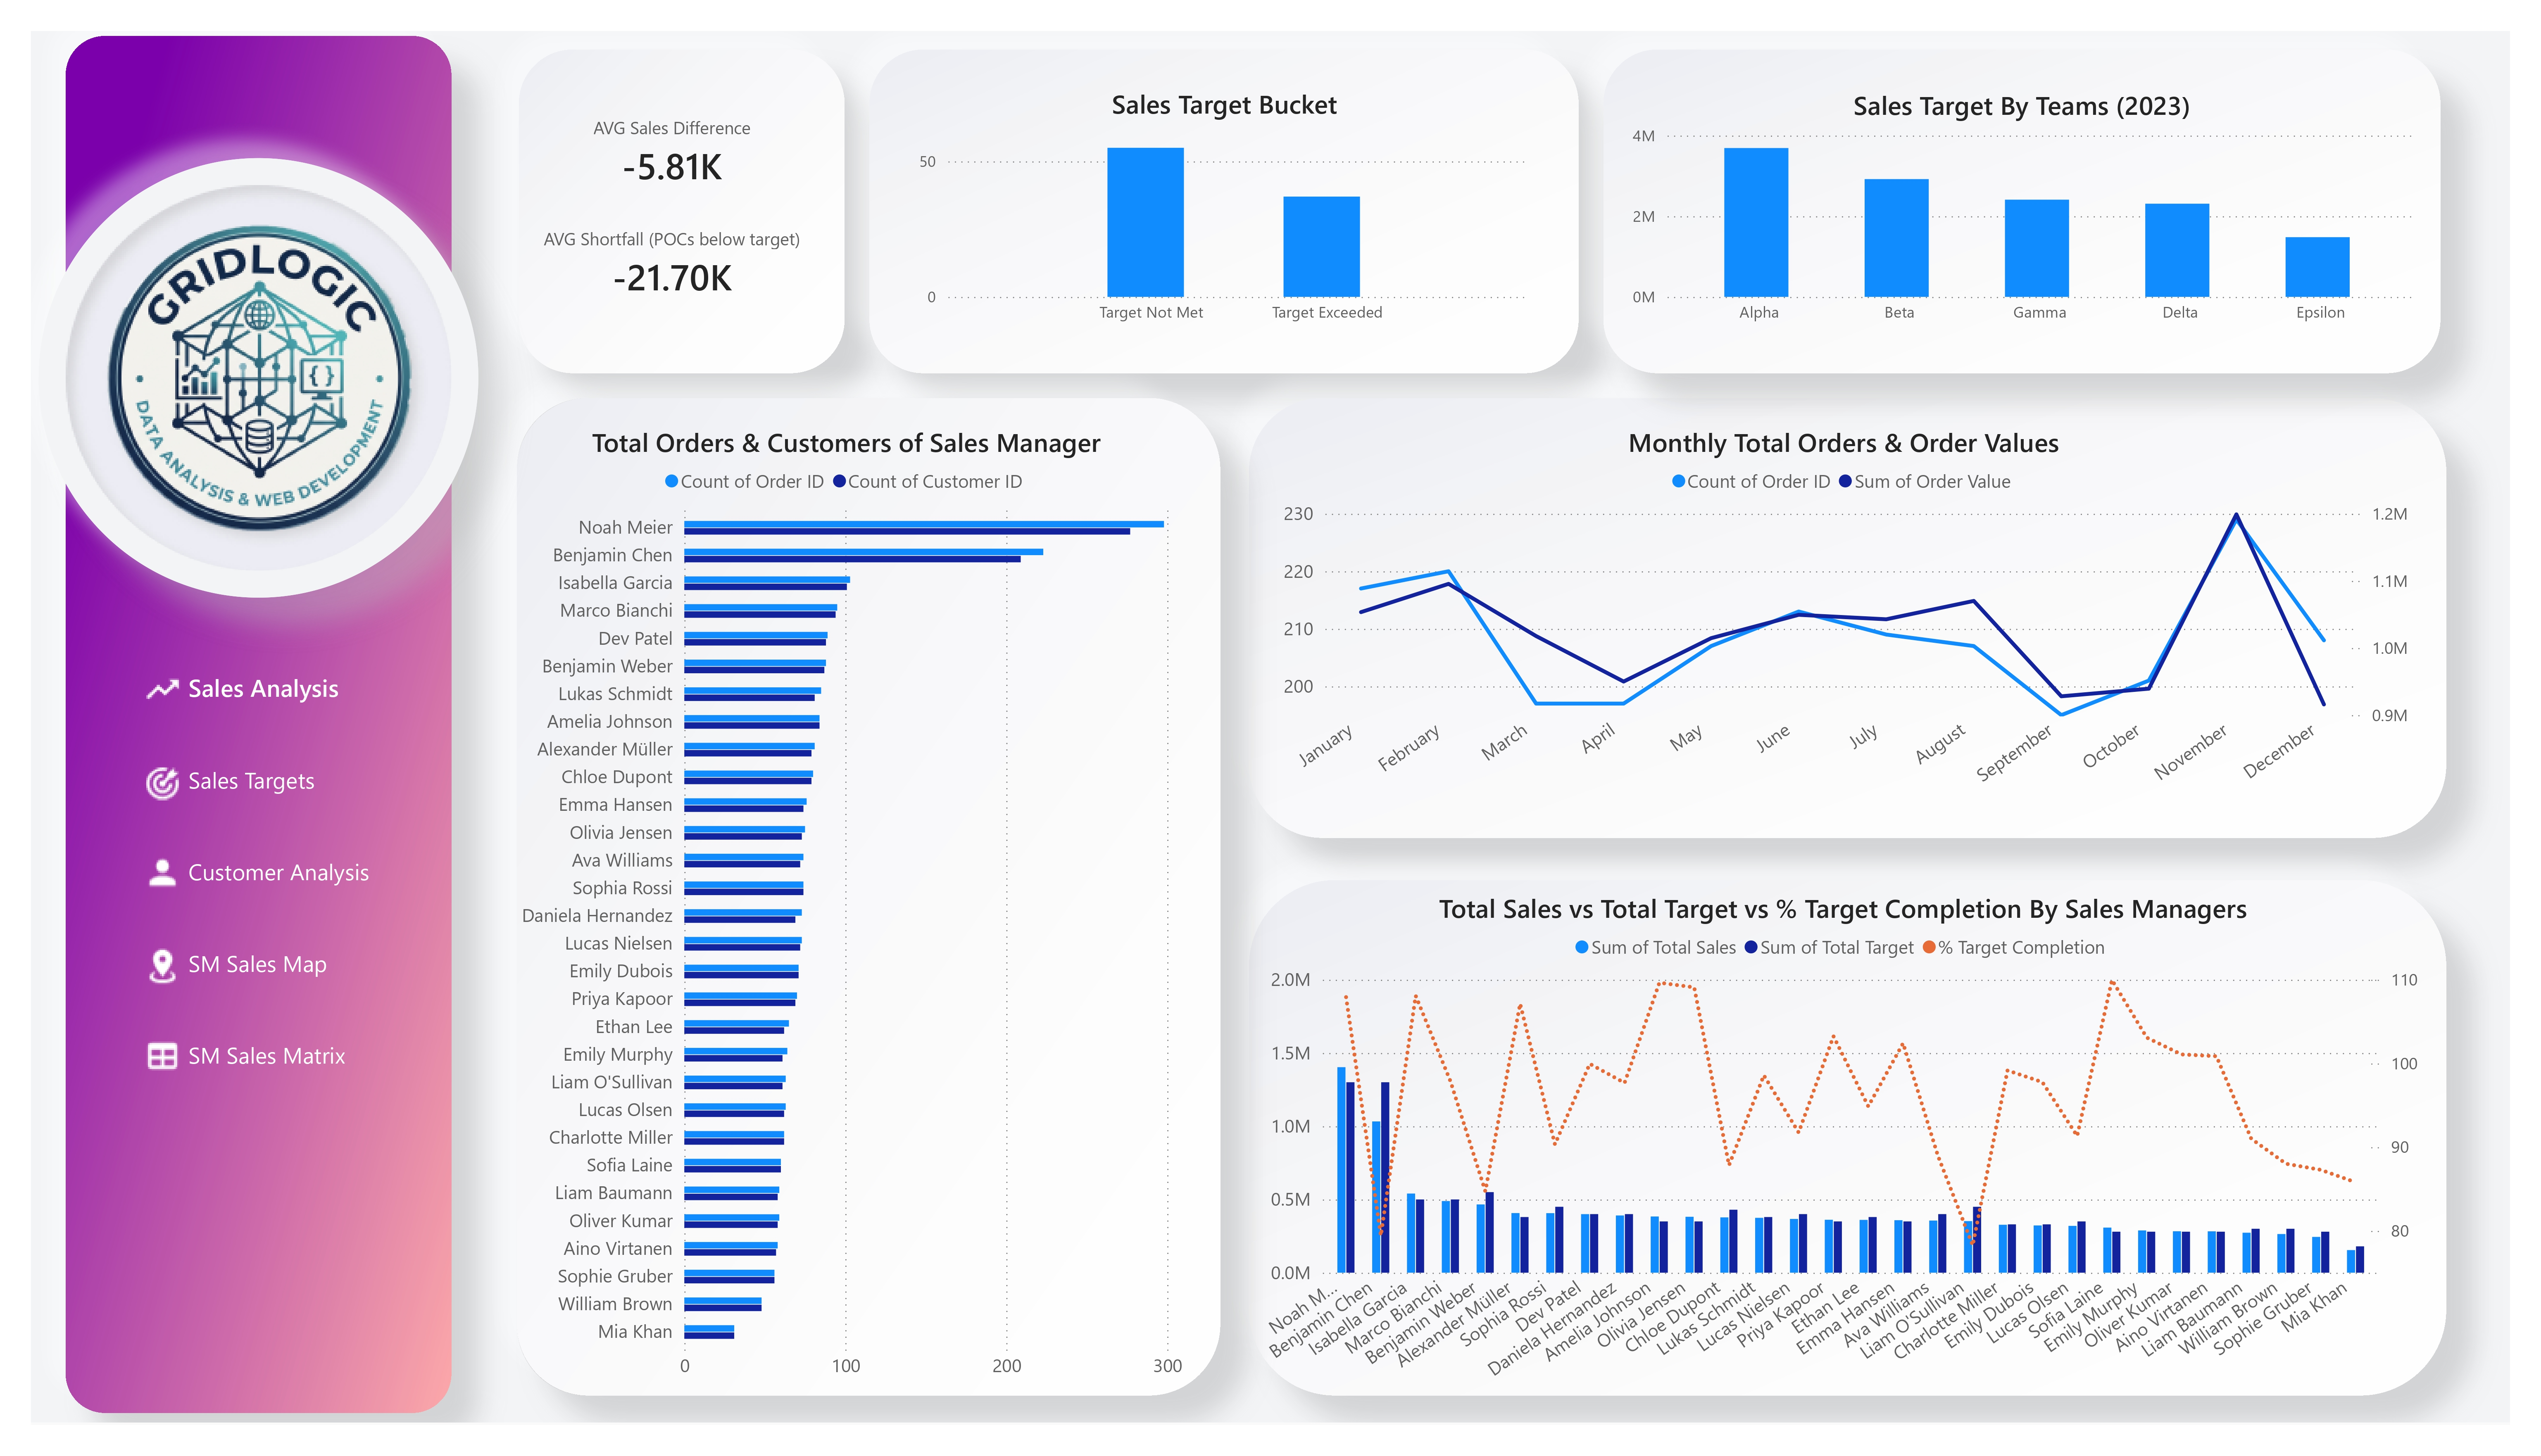

What the dashboard file says about the page in this screenshot:
{"tool":"powerbi","page":{"name":"Sales Analysis","canvas":[1920,1080],"ordinal":0},"visuals":[{"type":"clusteredColumnChart","title":"Sales Target Bucket","fields":{"Category":["Sales Targets.Target Bucket"],"Y":["CountNonNull(Sales Targets.Sales POC)"]},"box":[672,28,505,219],"z":0},{"type":"clusteredColumnChart","title":"Sales Target By Teams (2023)","fields":{"Category":["Sales Targets.Sales Team"],"Y":["Sum(Sales Targets.2023 Sales Target)"]},"box":[1224.3,28.6,635.7,218.6],"z":1000},{"type":"actionButton","title":"TableIconButton","box":[82.9,775.3,37.6,37.6],"z":1500,"group":"g1"},{"type":"lineClusteredColumnComboChart","title":"Total Sales vs Total Target vs % Target Completion By Sales Managers","fields":{"Category":["Sales Manager Target Table.Sales Manager Name"],"Y":["Sum(Sales Manager Target Table.Total Sales)","Sum(Sales Manager Target Table.Total Target)"],"Y2":["Sum(Sales Manager Target Table.% Target Completion)"]},"box":[940,651.4,927.1,428.6],"z":2000},{"type":"cardVisual","fields":{"Data":["Avg(Sales Targets.Sales Difference)"]},"box":[382.2,137.1,229.1,86.1],"z":3000},{"type":"clusteredBarChart","title":"Total Orders & Customers of Sales Manager","fields":{"Category":["Orders.Sales Manager"],"Y":["CountNonNull(Orders.Order ID)","Count(Orders.Customer ID)"]},"box":[355,290,553.3,775],"z":4000},{"type":"actionButton","title":"MapIconButton","box":[82.9,704.8,37.6,37.6],"z":4000,"group":"g1"},{"type":"actionButton","title":"CustomerIconButton","box":[82.9,632.4,37.6,37.6],"z":4312,"group":"g1"},{"type":"actionButton","title":"TargetIconButton","box":[82.9,563.4,37.6,37.6],"z":4625,"group":"g1"},{"type":"lineChart","title":"Monthly Total Orders & Order Values","fields":{"Category":["Orders.Order Datetime.Variation.Date Hierarchy.Month"],"Y":["CountNonNull(Orders.Order ID)"],"Y2":["Sum(Orders.Order Value)"]},"box":[948.3,290,911.7,326.7],"z":5000},{"type":"actionButton","title":"SalesIconButton","box":[82.9,490.5,37.6,37.6],"z":5250,"group":"g1"},{"type":"pageNavigator","title":"PageNavigator","box":[110,473.8,182.5,355],"z":5500,"group":"g1"},{"type":"group","id":"g1","title":"NavMenu","box":[82.9,473.8,209.6,355],"z":6000},{"type":"cardVisual","fields":{"Data":["Avg(Sales Targets.Sales Difference)"]},"box":[382.2,49.6,229.1,87.5],"z":7000}]}

Visuals, with their boxes on the page's 1920x1080 design canvas (x1, y1, x2, y2). These are canvas units, not pixel positions in the 2541x1456 screenshot, which may show the page scaled, cropped or inside an application window:
"Sales Target Bucket" clusteredColumnChart: [672,28,1177,247]
"Sales Target By Teams (2023)" clusteredColumnChart: [1224,29,1860,247]
"TableIconButton" actionButton: [83,775,120,813]
"Total Sales vs Total Target vs % Target Completion By Sales Managers" lineClusteredColumnComboChart: [940,651,1867,1080]
cardVisual - Avg(Sales Targets.Sales Difference): [382,137,611,223]
"Total Orders & Customers of Sales Manager" clusteredBarChart: [355,290,908,1065]
"MapIconButton" actionButton: [83,705,120,742]
"CustomerIconButton" actionButton: [83,632,120,670]
"TargetIconButton" actionButton: [83,563,120,601]
"Monthly Total Orders & Order Values" lineChart: [948,290,1860,617]
"SalesIconButton" actionButton: [83,490,120,528]
"PageNavigator" pageNavigator: [110,474,292,829]
"NavMenu" group: [83,474,292,829]
cardVisual - Avg(Sales Targets.Sales Difference): [382,50,611,137]
